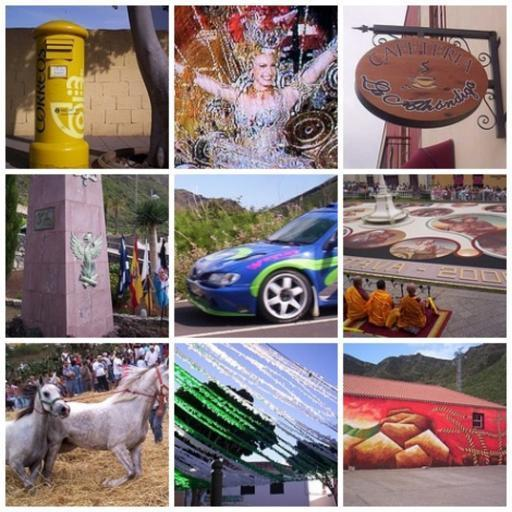horse: (16, 355, 170, 489), (0, 369, 70, 499)
